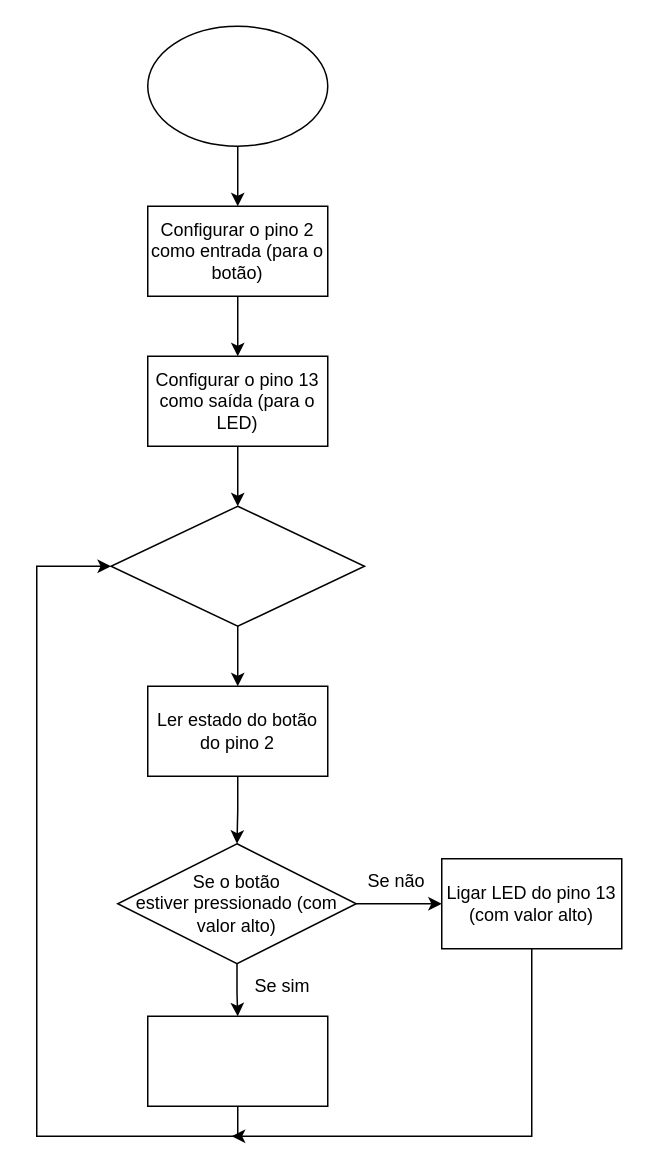
Some shapes in this 648 by 1175 pixel diagram are drawn without their labels. The centre of each missing label's shape, as x and y in pixels:
Desligar LED do pino 13 (com valor baixo): (x=237, y=1060)
Início: (x=237, y=85)
Repetir sempre: (x=237, y=565)
